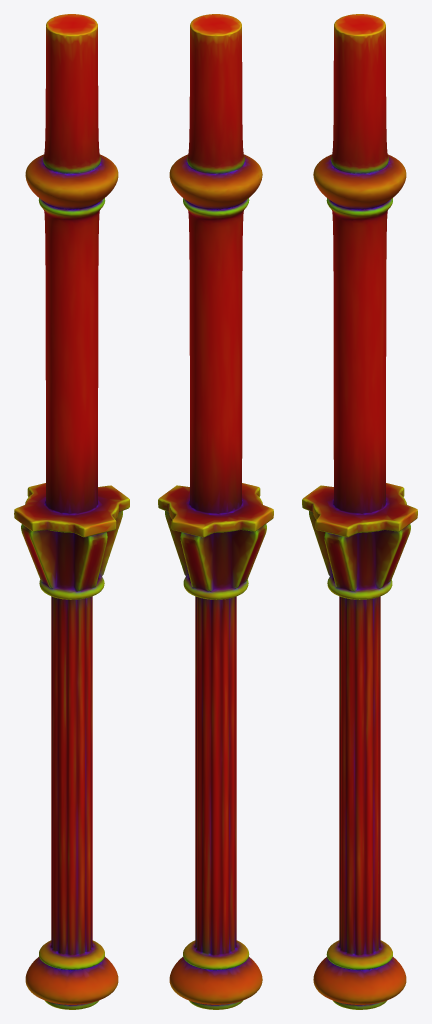
File: FrameWithArches.fbx
3 renders of one model, left to right at view 1: azimuth 30°, elevation 25°; view 2: azimuth 150°, elevation 25°; view 3: azimuth 330°, elevation 25°, orthographic.
Parts seen in each view (by area): view 1: transform1; view 2: transform1; view 3: transform1.
Part boxes in pixels (x1=…): transform1: x1=14, y1=14, x2=129, y2=1009; transform1: x1=158, y1=14, x2=273, y2=1009; transform1: x1=302, y1=14, x2=417, y2=1009.
Bounding box in the file's own units: 63.39 × 63.39 × 601.
